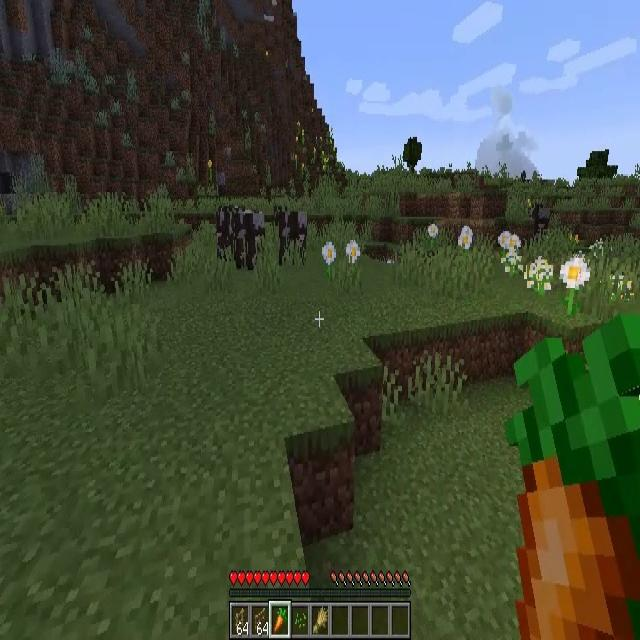cow: (274, 204, 307, 262), (234, 213, 263, 263)
flower: (561, 255, 589, 317), (498, 230, 522, 276), (527, 257, 553, 297), (217, 208, 234, 259), (322, 241, 336, 280), (458, 225, 473, 253), (346, 237, 360, 266), (428, 224, 438, 249)
